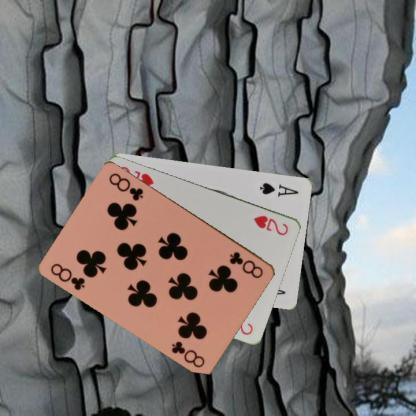2h: (251, 213, 290, 236)
8c: (48, 260, 87, 292), (227, 248, 265, 280)
As: (257, 180, 300, 198)
